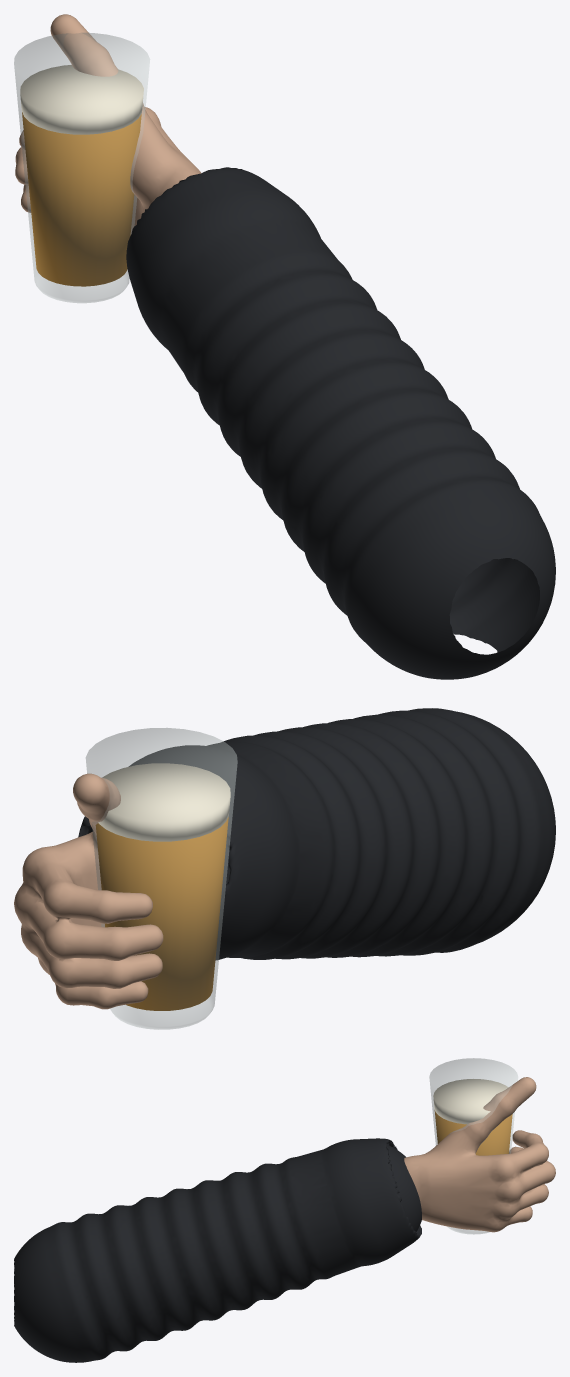
The model's file is his_right_pint.glb.
3 renders of one model, top to bottom at view 1: azimuth 30°, elevation 25°; view 2: azimuth 150°, elevation 25°; view 3: azimuth 270°, elevation 25°, orthographic. The views are drawn at different scales.
Visible parts, largest first — view 1: his_right_pint, pint, pint_beer, pint_foam; view 2: his_right_pint, pint, pint_beer, pint_foam; view 3: his_right_pint, pint, pint_foam, pint_beer.
Part boxes in pixels (left/top/right/bottom): his_right_pint: left=15, top=14, right=555, bottom=679; pint: left=14, top=33, right=149, bottom=302; pint_beer: left=22, top=112, right=141, bottom=286; pint_foam: left=20, top=65, right=143, bottom=134; his_right_pint: left=14, top=708, right=555, bottom=1009; pint: left=86, top=728, right=237, bottom=1029; pint_beer: left=95, top=817, right=228, bottom=1010; pint_foam: left=98, top=763, right=230, bottom=841; his_right_pint: left=14, top=1077, right=555, bottom=1362; pint: left=429, top=1058, right=517, bottom=1234; pint_foam: left=433, top=1079, right=508, bottom=1124; pint_beer: left=434, top=1110, right=512, bottom=1155.
Bounding box in the file's own units: 0.156 × 0.2764 × 0.5239.
